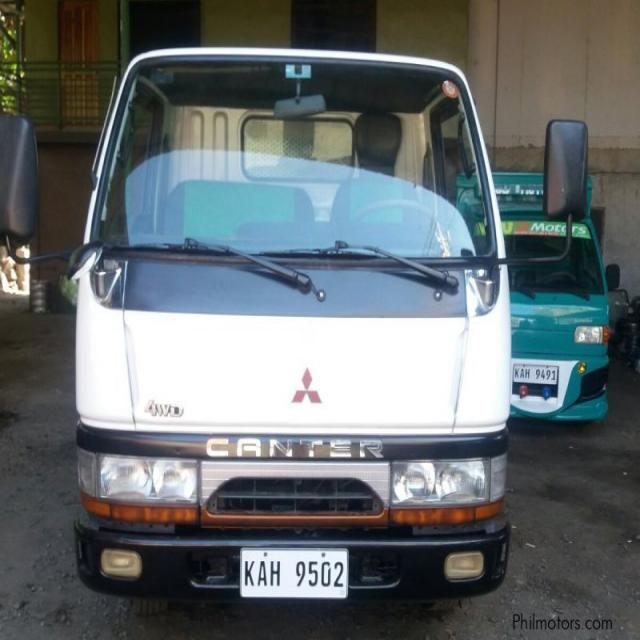truck: (2, 47, 590, 605)
